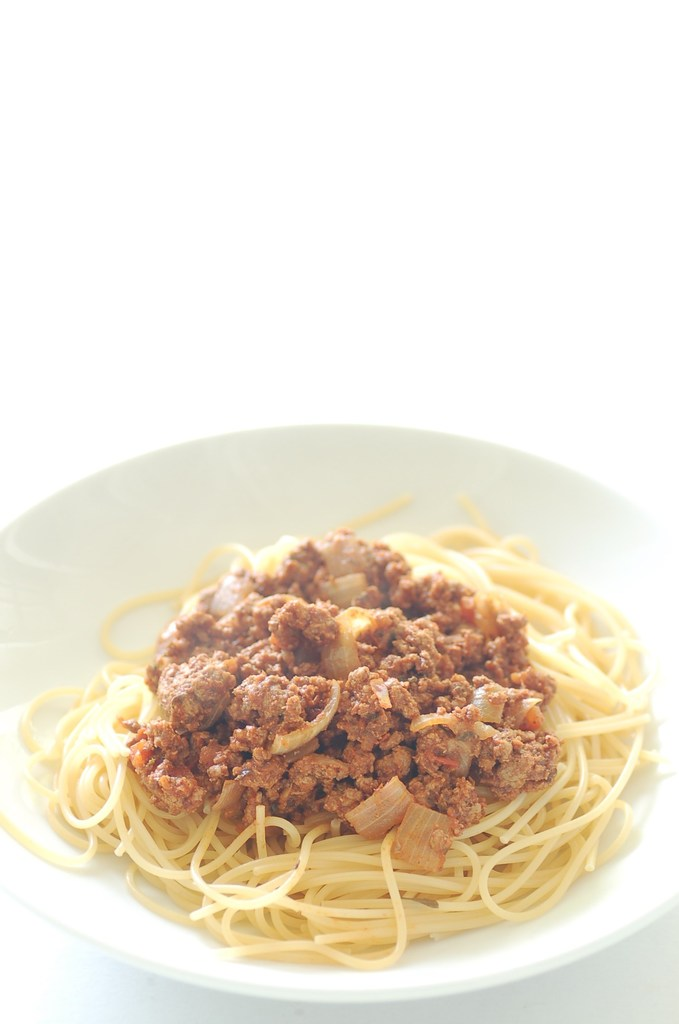pasta: (0, 488, 655, 964)
